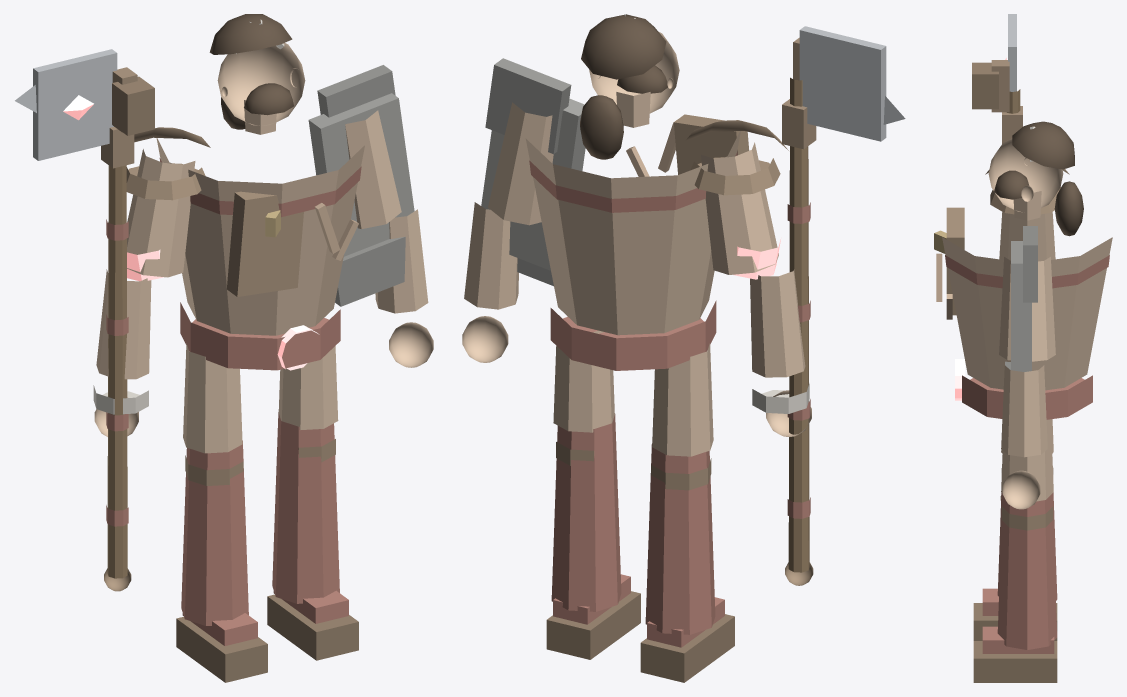
The model's file is radin.glb.
3 views of the same model, side by side, from view 1: azimuth 30°, elevation 25°; view 2: azimuth 150°, elevation 25°; view 3: azimuth 270°, elevation 25° (orthographic). The views are drawn at different scales.
Parts seen in each view (by area): view 1: radin_body, radin_weapon; view 2: radin_body, radin_weapon; view 3: radin_body, radin_weapon.
Part boxes in pixels (x1,y1,x2,y2): radin_body: [93, 14, 433, 682]; radin_weapon: [15, 49, 154, 591]; radin_body: [462, 14, 811, 682]; radin_weapon: [782, 26, 905, 585]; radin_body: [934, 121, 1112, 682]; radin_weapon: [972, 14, 1022, 500].
Bounding box in the file's own units: 1.39 × 2 × 0.5971.
